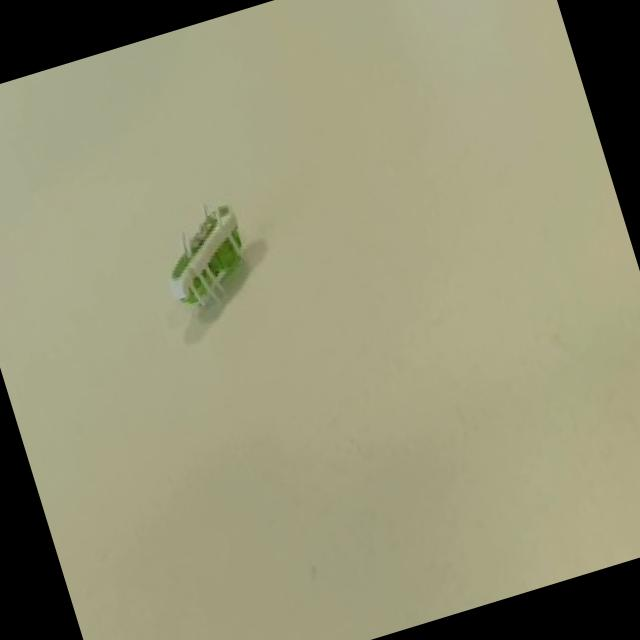4_NanoBug_Blanco: (117, 162, 296, 354)
